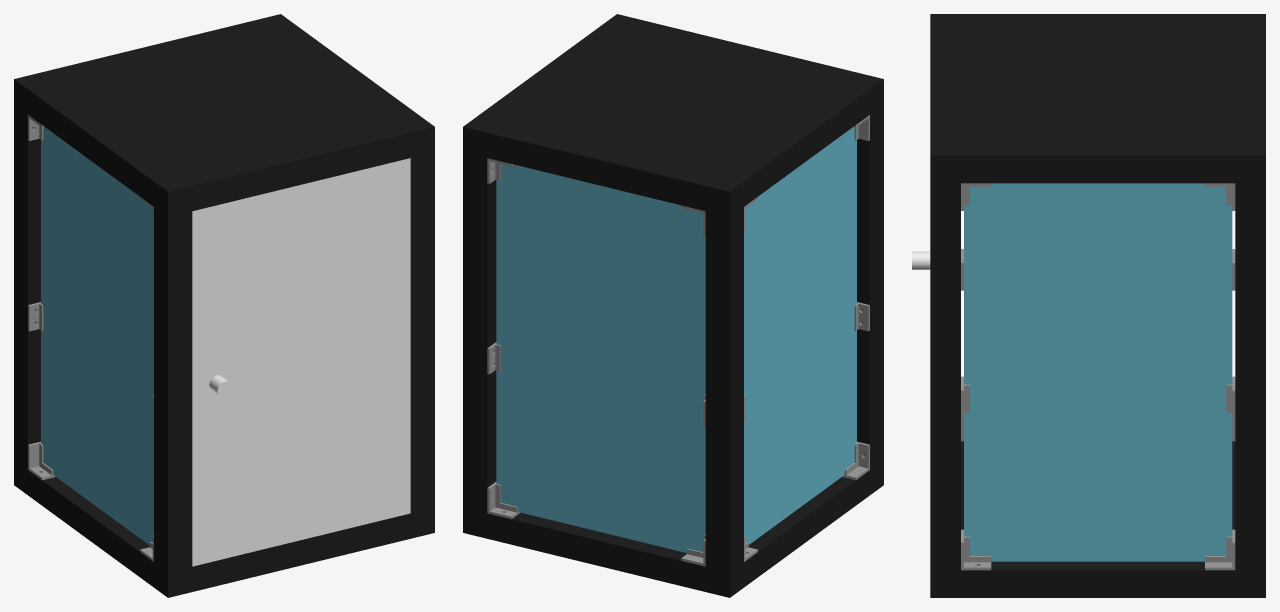
File: 3D_Printer_Rack_v2.fbx
The picture shows the model from 3 angles, left to right: view 1: azimuth 30°, elevation 25°; view 2: azimuth 150°, elevation 25°; view 3: azimuth 270°, elevation 25°; orthographic projection. The views are drawn at different scales.
Visible parts, largest first — view 1: Body1, Body5, Body17, Body2, Body18; view 2: Body5 (×2), Body17, Body2, Body8, Body19; view 3: Body1, Body5, Body2 (×2), Body4.
Part boxes in pixels (x1,y1,x2,y2): Body1: (192, 158, 410, 566); Body5: (14, 14, 434, 420); Body17: (41, 127, 153, 544); Body2: (14, 308, 434, 597); Body18: (28, 441, 55, 480); Body5 (×2): (463, 14, 883, 552); Body17: (744, 127, 856, 544); Body2: (463, 308, 883, 597); Body8: (487, 482, 520, 519); Body19: (842, 441, 869, 480); Body1: (964, 183, 1232, 561); Body5: (930, 14, 1265, 404); Body2 (×2): (930, 404, 1265, 597); Body4: (961, 529, 991, 570).
Size of the model in its own units: 550 by 800 by 580.
